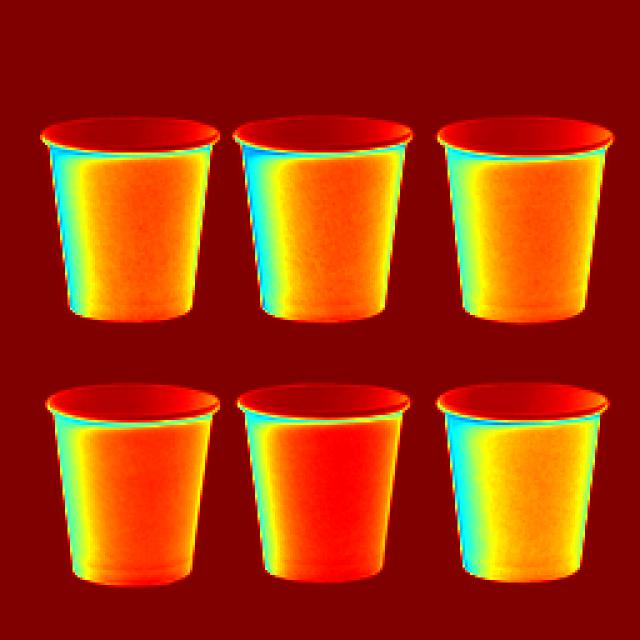Paper Cups: (412, 361, 629, 623), (219, 97, 432, 345), (417, 100, 632, 340), (16, 362, 215, 620), (224, 378, 416, 615), (32, 109, 236, 326)
